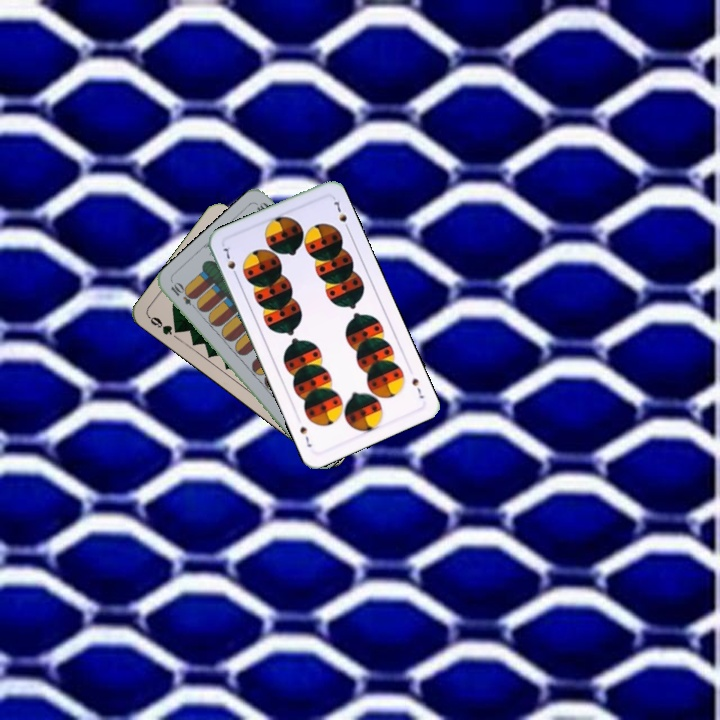E10: (167, 279, 201, 313)
G9: (144, 312, 183, 337)
S7: (219, 242, 240, 281), (408, 374, 427, 401)
